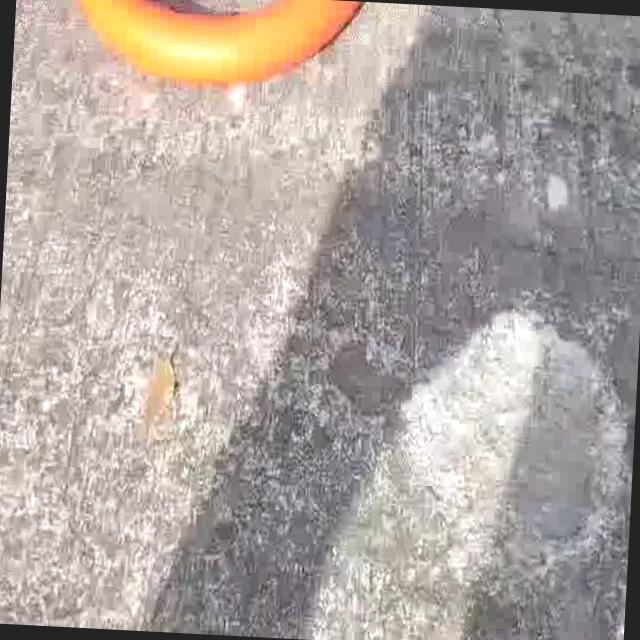note: (73, 0, 360, 102)
